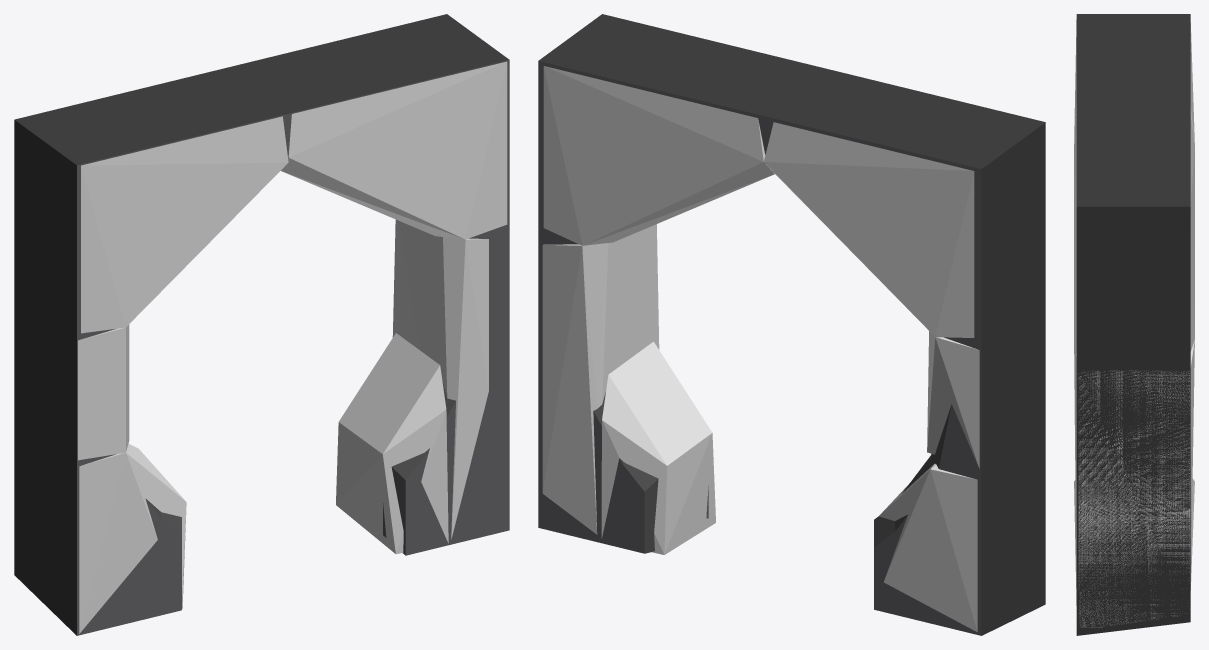
Rendered from SM_Bld_Corridor_Single_Arch_03.fbx.
3 renders of one model, left to right at view 1: azimuth 30°, elevation 25°; view 2: azimuth 150°, elevation 25°; view 3: azimuth 270°, elevation 25°, orthographic. The views are drawn at different scales.
Visible parts, largest first — view 1: SM_Bld_Corridor_Single_Arch_03_ConvexHulls, SM_Bld_Corridor_Single_Arch_03_LOD0; view 2: SM_Bld_Corridor_Single_Arch_03_ConvexHulls, SM_Bld_Corridor_Single_Arch_03_LOD0; view 3: SM_Bld_Corridor_Single_Arch_03_LOD0, SM_Bld_Corridor_Single_Arch_03_ConvexHulls.
Part boxes in pixels (left/top/right/bottom): SM_Bld_Corridor_Single_Arch_03_ConvexHulls: left=78, top=61, right=507, bottom=633; SM_Bld_Corridor_Single_Arch_03_LOD0: left=14, top=14, right=509, bottom=635; SM_Bld_Corridor_Single_Arch_03_ConvexHulls: left=542, top=66, right=979, bottom=632; SM_Bld_Corridor_Single_Arch_03_LOD0: left=538, top=14, right=1045, bottom=635; SM_Bld_Corridor_Single_Arch_03_LOD0: left=1076, top=14, right=1190, bottom=635; SM_Bld_Corridor_Single_Arch_03_ConvexHulls: left=1074, top=19, right=1194, bottom=627.
Bounding box in the file's own units: 130 × 491 × 513.
Materials: 1 (1 with a texture image).
